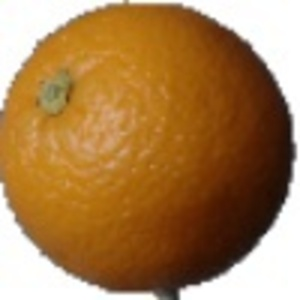laranja: (4, 3, 297, 295)
